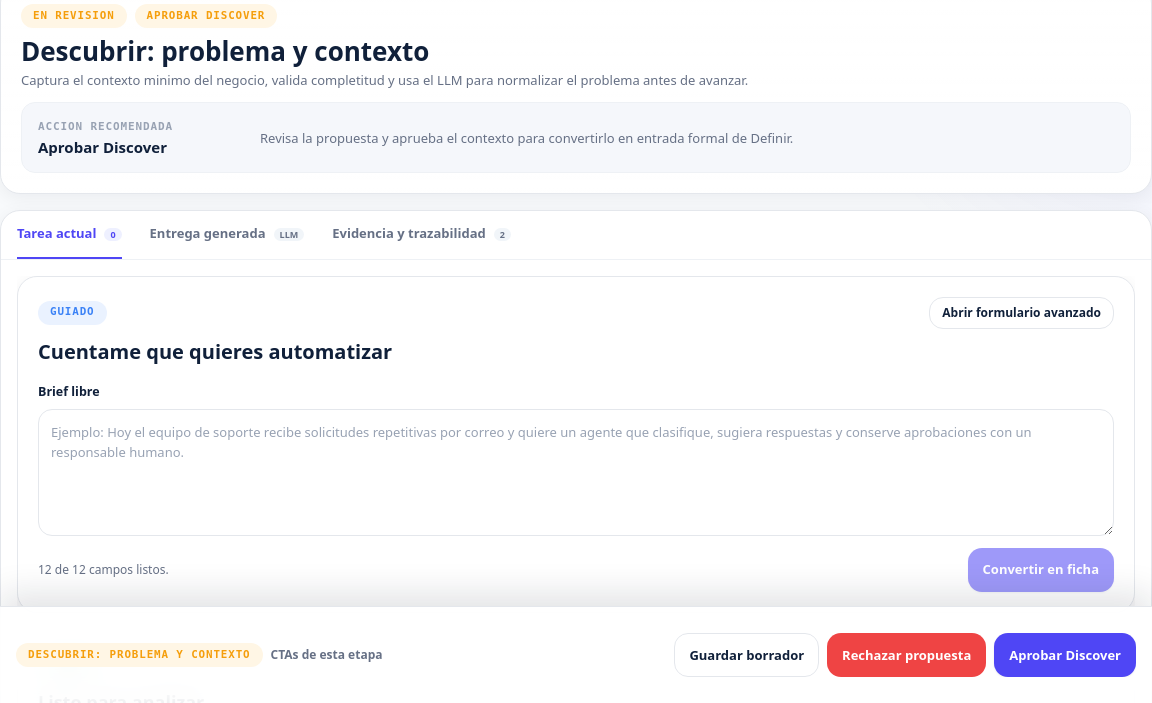
DiscoverStageView UXA7 › keeps traceable pending items while hiding generated deliverable metric cards
Click the tab "Entrega generada LLM" at coordinates (227, 235), box [150,211,304,259]
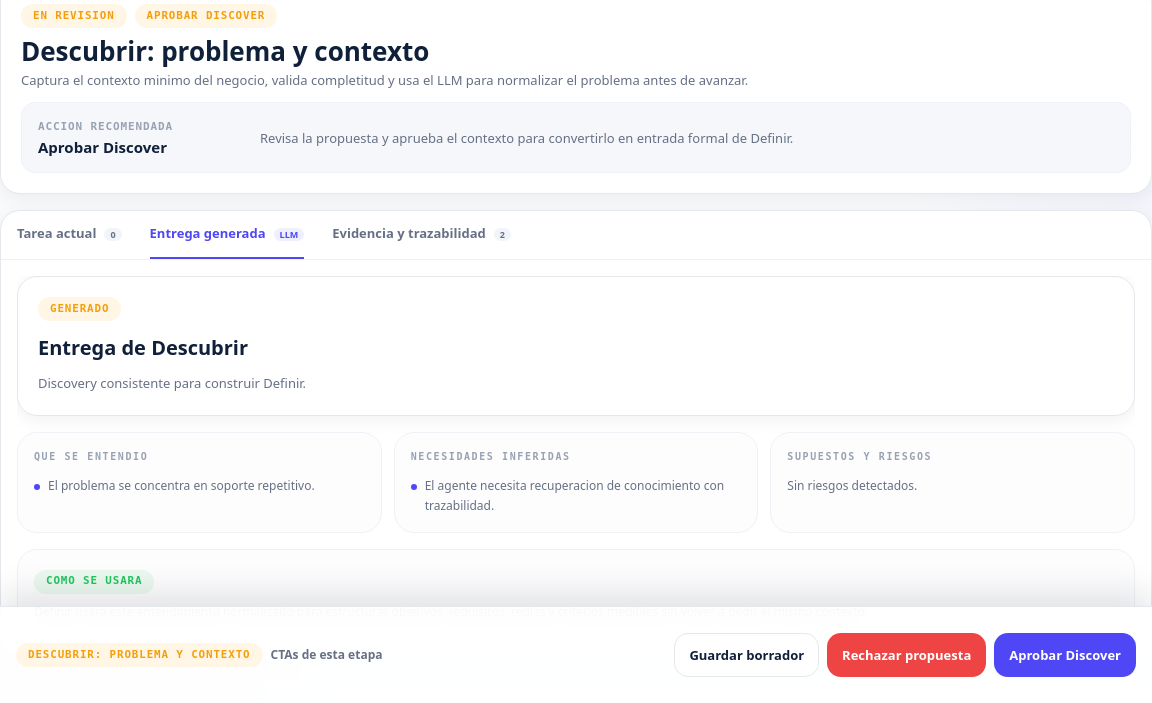
expect the text "Pendientes delegados" is not shown: met
expect the heading "Entrega de Descubrir" is shown: met, box [38,334,248,361]
Click the tab "Evidencia y trazabilidad 2" at coordinates (422, 235), box [332,211,511,259]
(page scrolled)
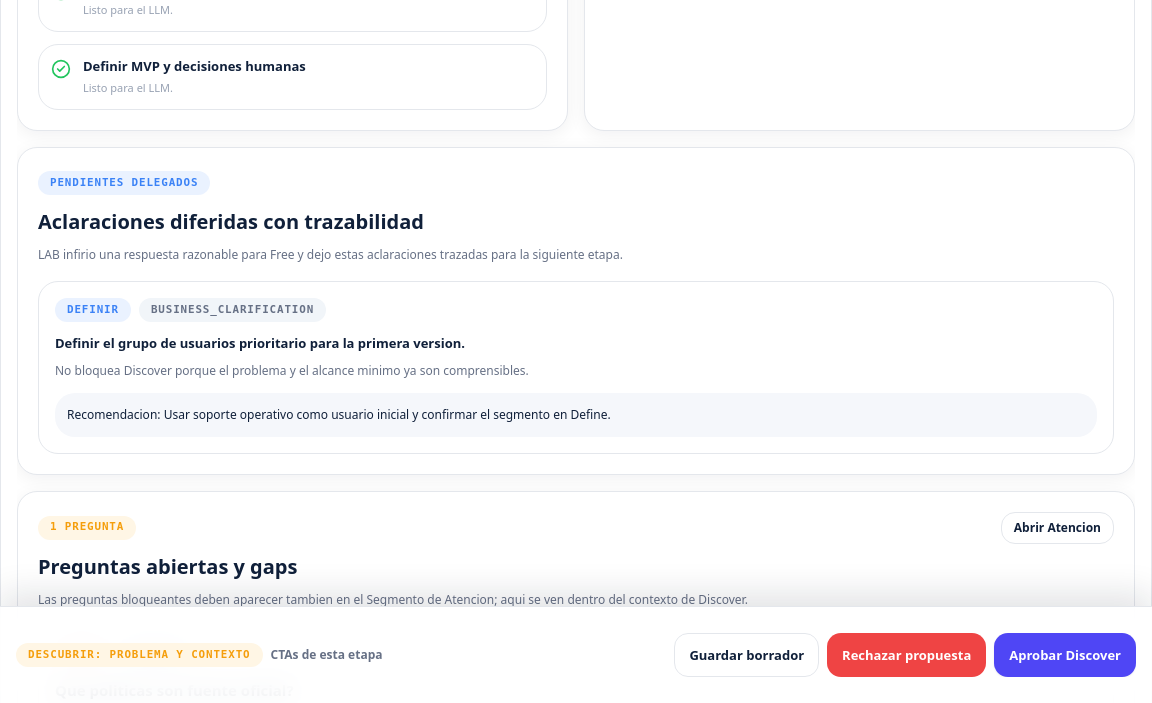
expect the heading "Aclaraciones diferidas con trazabilidad" is shown: met, box [38,208,424,235]
expect the text "Definir el grupo de usuarios prioritario para la primera version" is shown: met, box [55,334,465,352]
